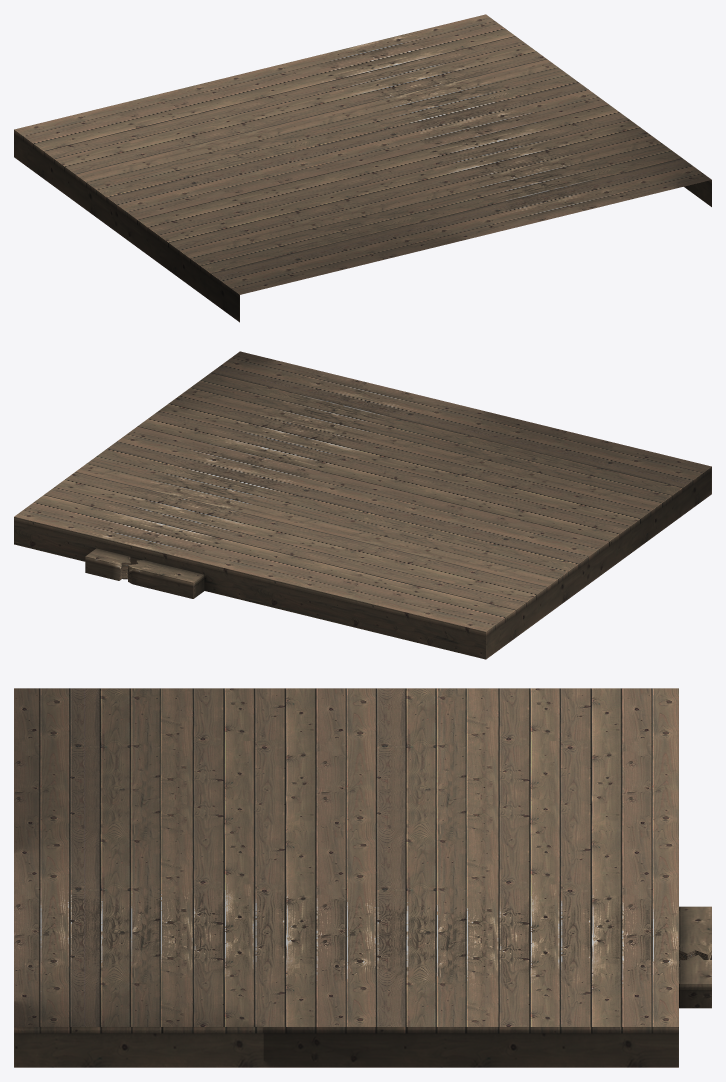
The model's file is WoodDeck_Broken.FBX.
3 views of the same model, one above another, from view 1: azimuth 30°, elevation 25°; view 2: azimuth 150°, elevation 25°; view 3: azimuth 270°, elevation 25° (orthographic). The views are drawn at different scales.
Visible parts, largest first — view 1: WoodDeck; view 2: WoodDeck; view 3: WoodDeck.
Boxes of the visible parts, box(x1,y1,x2,y2) form: WoodDeck: box(14, 14, 711, 322); WoodDeck: box(14, 351, 711, 659); WoodDeck: box(14, 688, 711, 1067).
Size of the model in its own units: 436 by 24.45 by 379.
